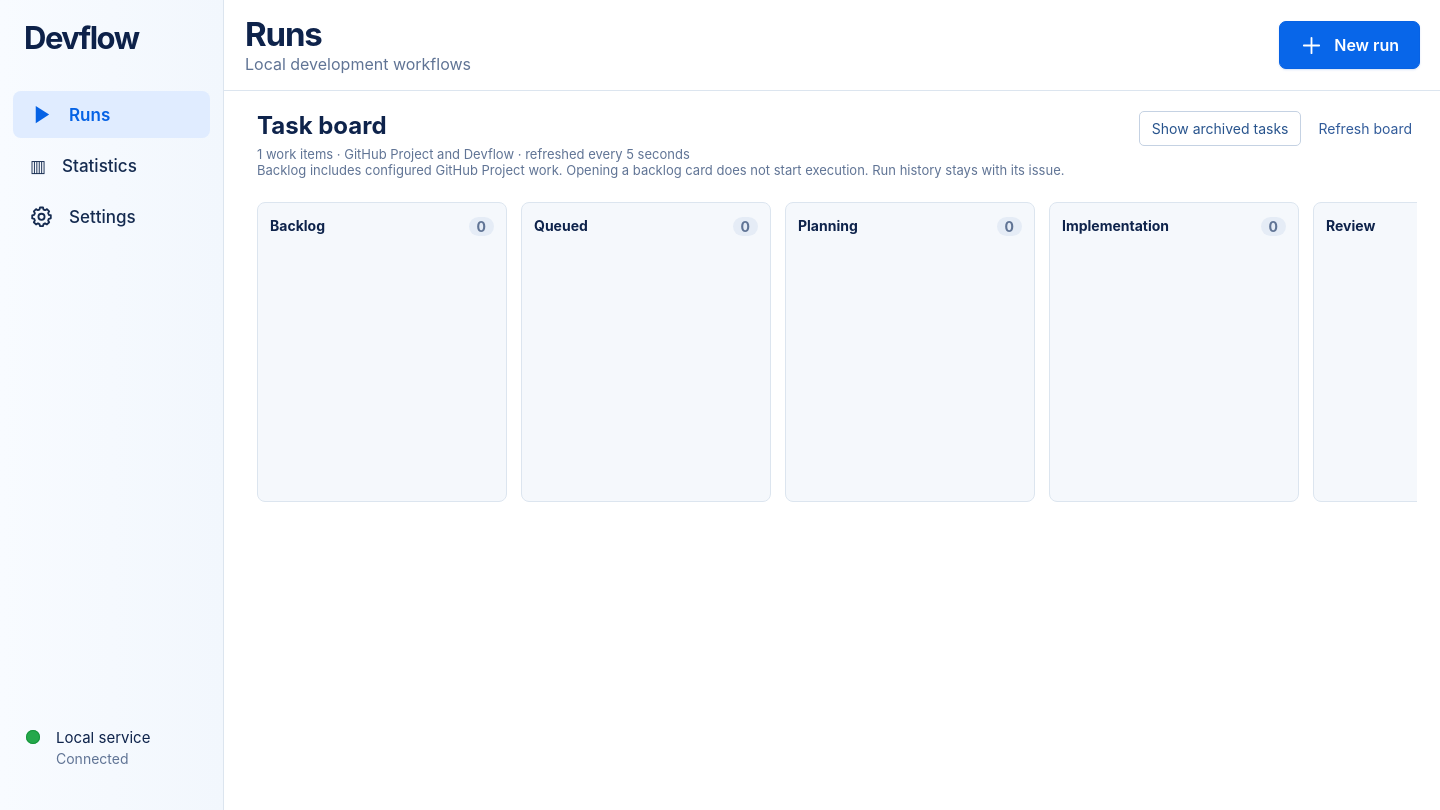
Test: workflow board and controls › makes the board the landing page and isolates settings from the run rail
Expected: the element named "Task status board" is shown, left=257, top=111, right=1417, bottom=522
Click the button "Settings" at (112, 216), box left=13, top=193, right=210, bottom=240
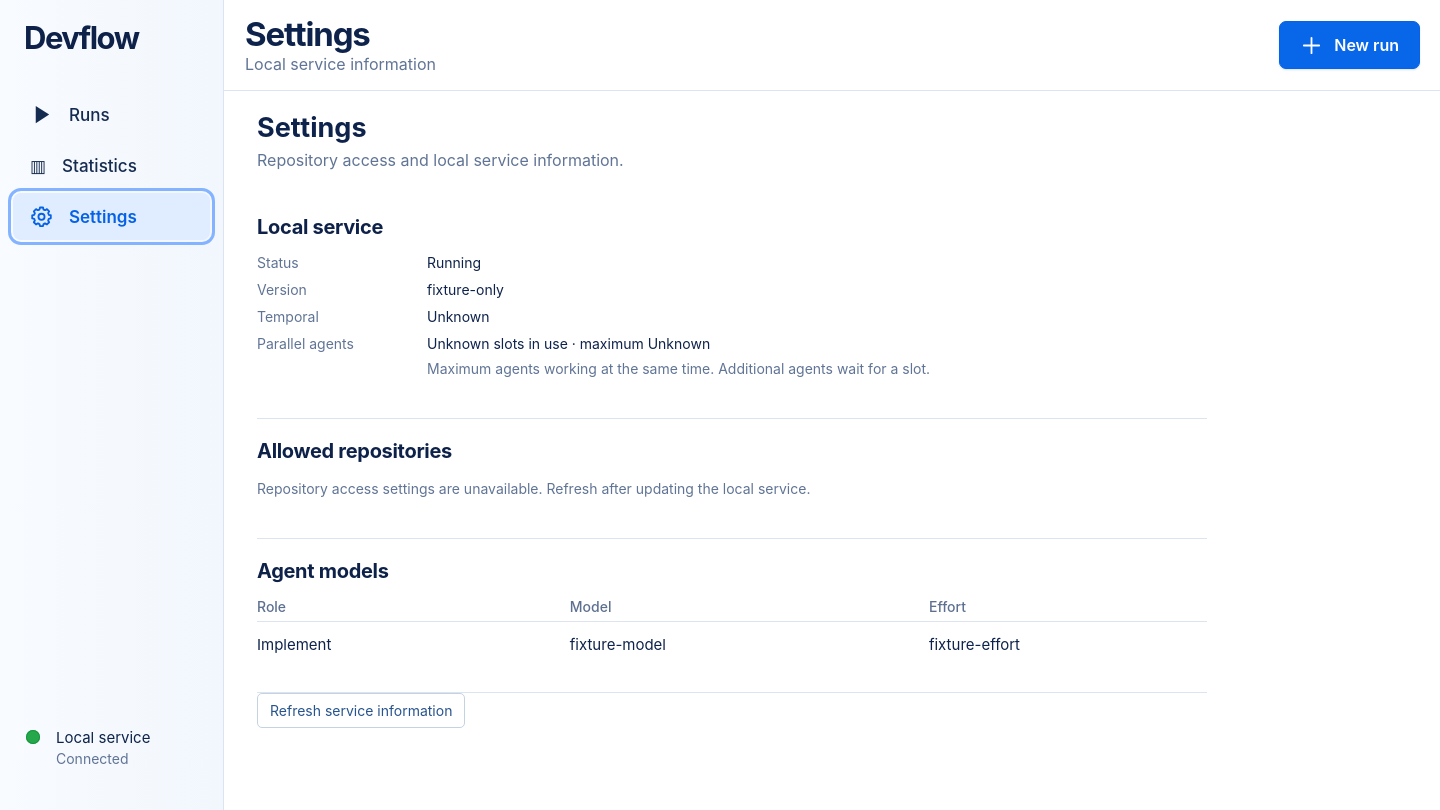
Expected: the heading "Agent models" is shown, left=257, top=559, right=389, bottom=583
